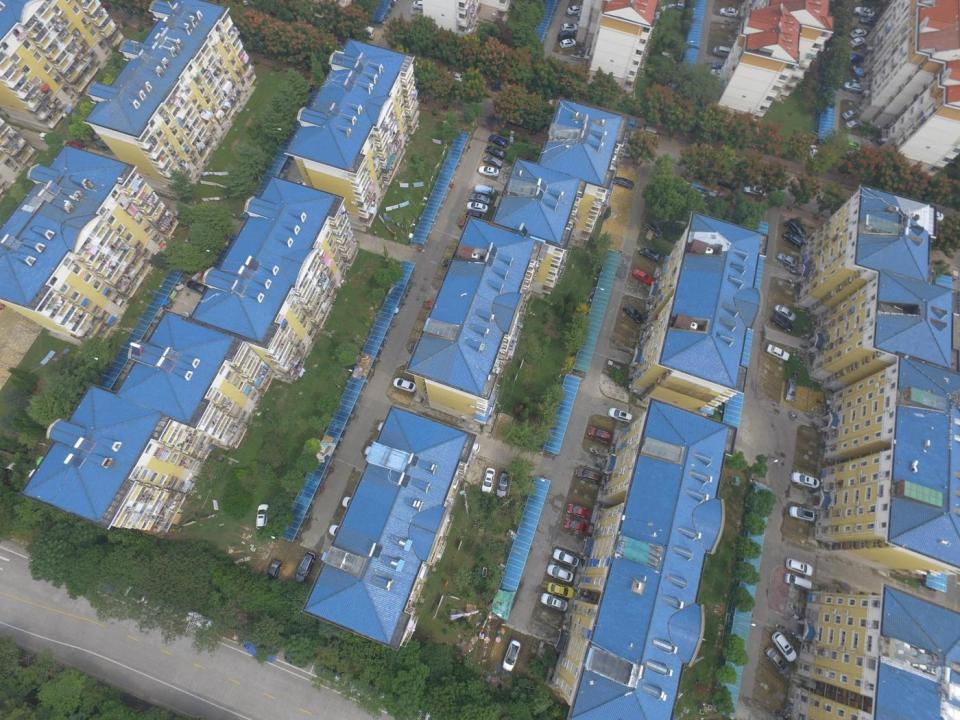car: (123, 585, 166, 616), (171, 604, 213, 632), (352, 676, 387, 704), (395, 697, 433, 720), (771, 631, 797, 662), (764, 646, 790, 676), (315, 662, 345, 686), (294, 551, 316, 582), (502, 638, 520, 672), (790, 471, 820, 490), (784, 572, 812, 592), (541, 592, 568, 611), (285, 648, 310, 668), (552, 549, 579, 567), (786, 558, 813, 576), (341, 496, 371, 512), (329, 524, 355, 542), (547, 564, 573, 582), (546, 582, 575, 598), (789, 505, 815, 522), (772, 312, 794, 332), (785, 219, 807, 238), (563, 518, 589, 534), (575, 467, 601, 483), (607, 407, 633, 423), (766, 344, 789, 362), (393, 376, 417, 393), (255, 503, 270, 530), (623, 303, 644, 322), (774, 304, 796, 322), (588, 426, 611, 443), (496, 470, 509, 500), (92, 133, 112, 152), (481, 467, 495, 494), (265, 559, 282, 581), (566, 504, 592, 518), (632, 268, 653, 285), (783, 231, 804, 248), (776, 252, 798, 268), (459, 438, 481, 453), (644, 220, 662, 238), (616, 144, 639, 158), (491, 81, 514, 95), (36, 456, 59, 470), (718, 174, 738, 190), (639, 246, 660, 261), (376, 421, 402, 433), (784, 378, 797, 402), (484, 145, 506, 159), (28, 469, 53, 481), (612, 176, 635, 189), (743, 184, 766, 197), (488, 134, 509, 148), (843, 81, 864, 95), (364, 445, 388, 457), (322, 37, 346, 49), (482, 155, 503, 168), (478, 165, 499, 178), (925, 208, 944, 222), (468, 193, 490, 205), (186, 280, 206, 293), (474, 184, 494, 197), (408, 342, 431, 353), (841, 108, 862, 120), (443, 70, 464, 82), (154, 297, 173, 310), (846, 140, 865, 153), (466, 202, 488, 213), (853, 6, 875, 17), (848, 36, 866, 49), (808, 144, 820, 163), (309, 84, 324, 99), (64, 140, 84, 151), (442, 258, 462, 269), (427, 299, 449, 309), (720, 7, 740, 18), (566, 5, 588, 15), (175, 209, 193, 221), (175, 312, 190, 326), (846, 53, 865, 64), (459, 219, 479, 229), (561, 23, 581, 33), (640, 125, 658, 136), (850, 28, 868, 39), (559, 38, 577, 49), (709, 69, 730, 78), (294, 180, 314, 189), (845, 120, 863, 130), (859, 16, 879, 25), (412, 0, 430, 10), (465, 210, 482, 219), (558, 31, 575, 40), (711, 62, 730, 69), (39, 132, 51, 142), (386, 306, 399, 314)
truck: (211, 621, 279, 663)
van: (355, 25, 375, 40), (713, 45, 732, 58)
